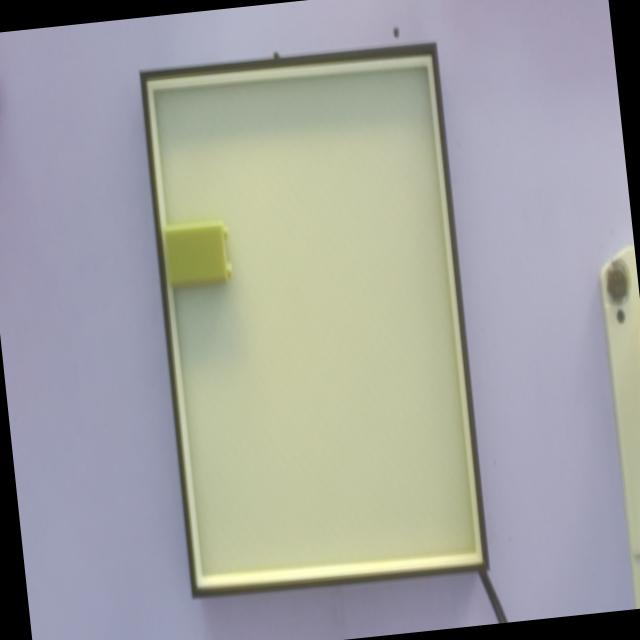bateria: (162, 219, 233, 291)
mesa: (139, 42, 490, 598)
